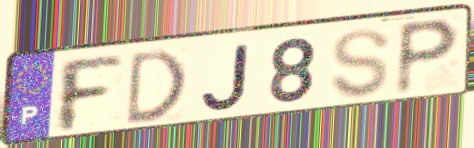8: (268, 36, 318, 106)
D: (123, 47, 189, 129)
F: (55, 54, 126, 135)
J: (198, 41, 252, 113)
P: (392, 16, 463, 99)
S: (328, 27, 393, 101)
